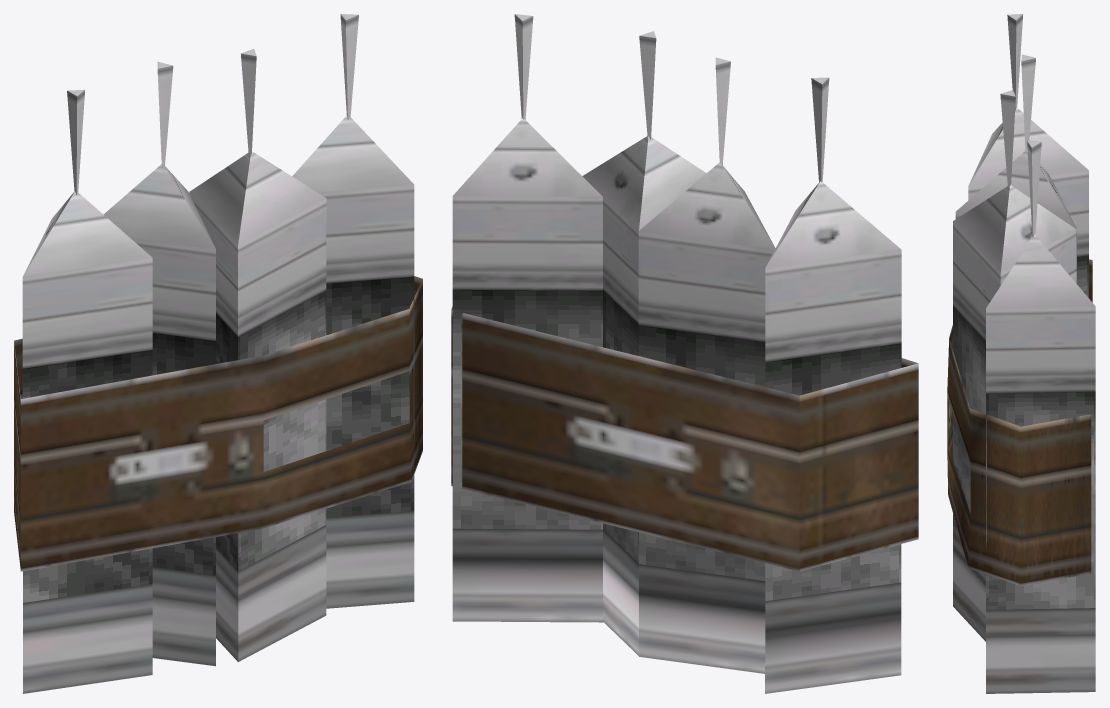
Rendered from eqp_medic_stimpack_lg_s1_l1.fbx.
3 views of the same model, side by side, from view 1: azimuth 30°, elevation 25°; view 2: azimuth 150°, elevation 25°; view 3: azimuth 270°, elevation 25° (orthographic). The views are drawn at different scales.
Visible parts, largest first — view 1: mesh_node; view 2: mesh_node; view 3: mesh_node.
Part boxes in pixels (x1,y1,x2,y2): mesh_node: [14, 14, 422, 693]; mesh_node: [451, 14, 918, 693]; mesh_node: [947, 14, 1095, 693].
Size of the model in its own units: 0.204 by 0.2645 by 0.0669.
